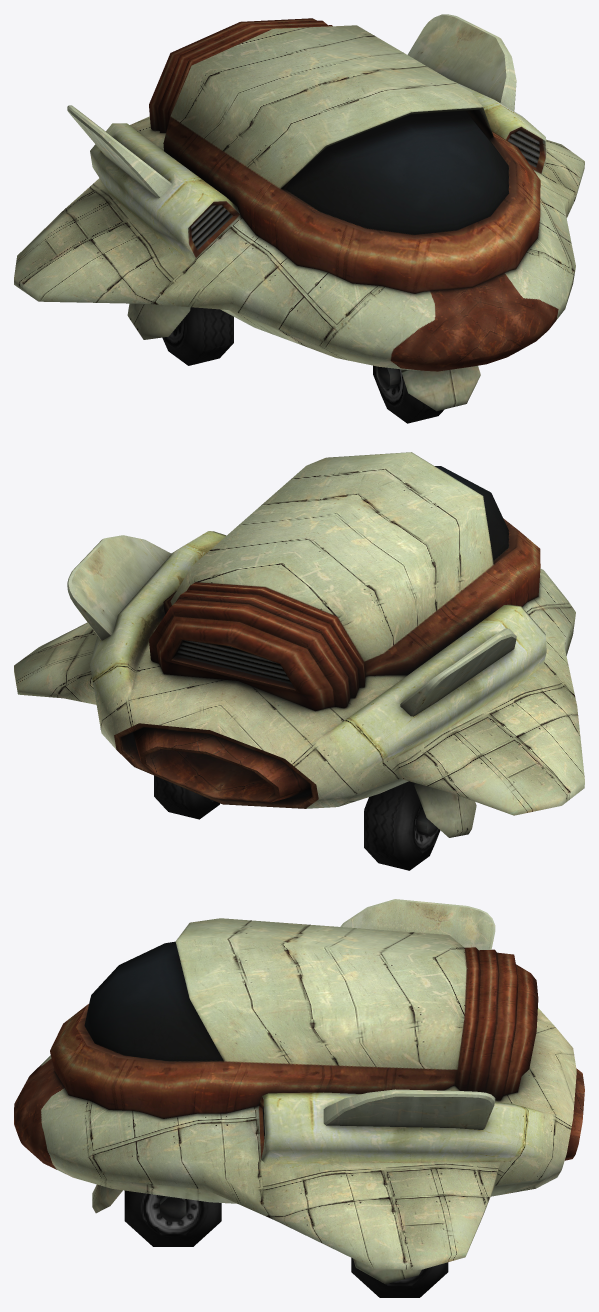
The model's file is Spaceship.fbx.
3 renders of one model, top to bottom at view 1: azimuth 30°, elevation 25°; view 2: azimuth 150°, elevation 25°; view 3: azimuth 270°, elevation 25°, orthographic.
Parts seen in each view (by area): view 1: LerpzShip; view 2: LerpzShip; view 3: LerpzShip.
Part boxes in pixels (x1,y1,x2,y2): LerpzShip: [14, 14, 584, 423]; LerpzShip: [14, 452, 584, 870]; LerpzShip: [14, 899, 584, 1297].
Bounding box in the file's own units: 9.76 × 5.15 × 8.85.
Materials: 1 (1 with a texture image).
